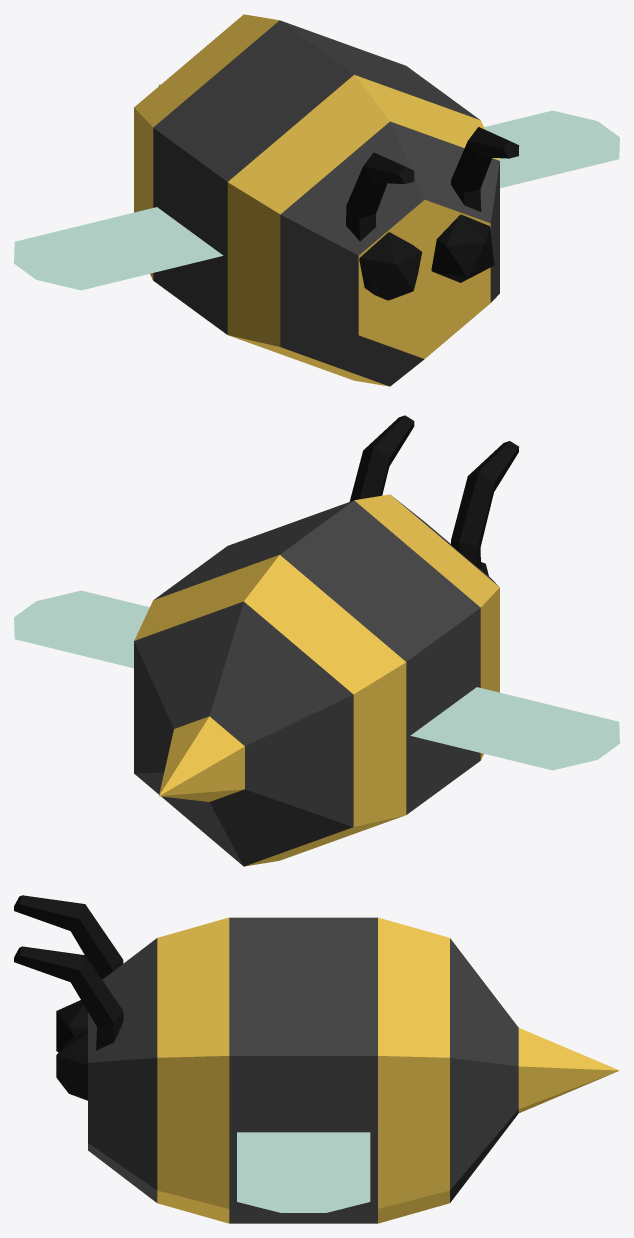
The model's file is beeCopy.gltf.
3 renders of one model, top to bottom at view 1: azimuth 30°, elevation 25°; view 2: azimuth 150°, elevation 25°; view 3: azimuth 270°, elevation 25°, orthographic.
Parts seen in each view (by area): view 1: Cylinder.001; view 2: Cylinder.001; view 3: Cylinder.001.
Part boxes in pixels (left/top/right/bottom): Cylinder.001: left=14, top=14, right=619, bottom=386; Cylinder.001: left=14, top=415, right=619, bottom=866; Cylinder.001: left=14, top=895, right=619, bottom=1223.
Bounding box in the file's own units: 4.61 × 2.31 × 4.14.
1 material, 1 textured.
